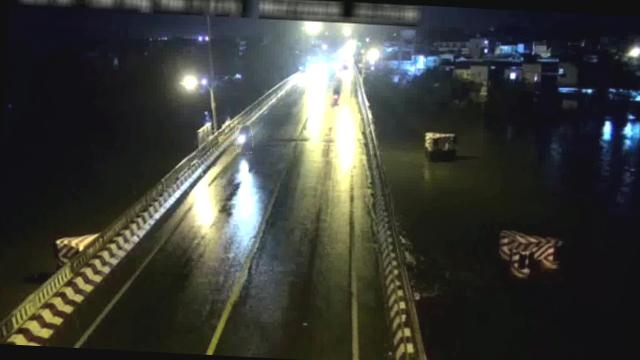Bike: (234, 124, 253, 154), (329, 78, 342, 103)
